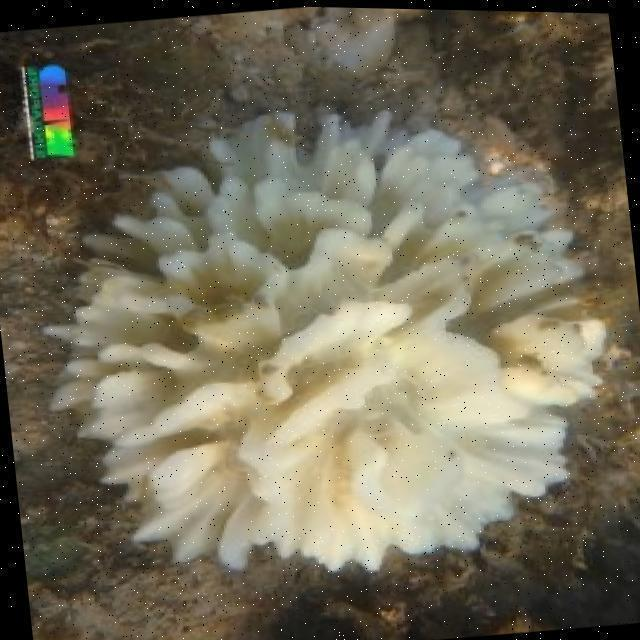Bleached Coral: (93, 123, 570, 542)
